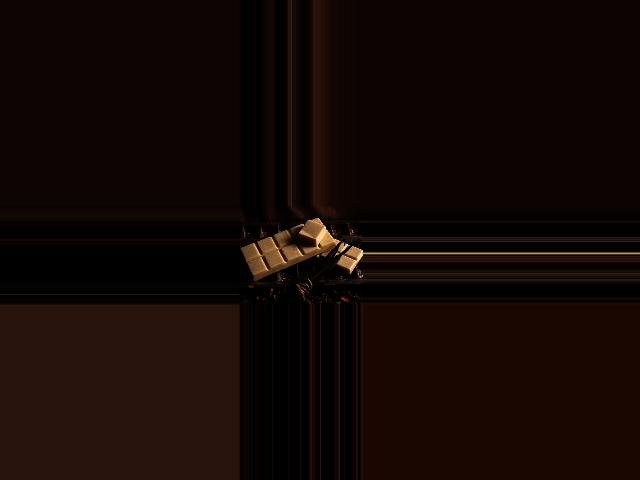chocolate: (241, 218, 338, 279)
